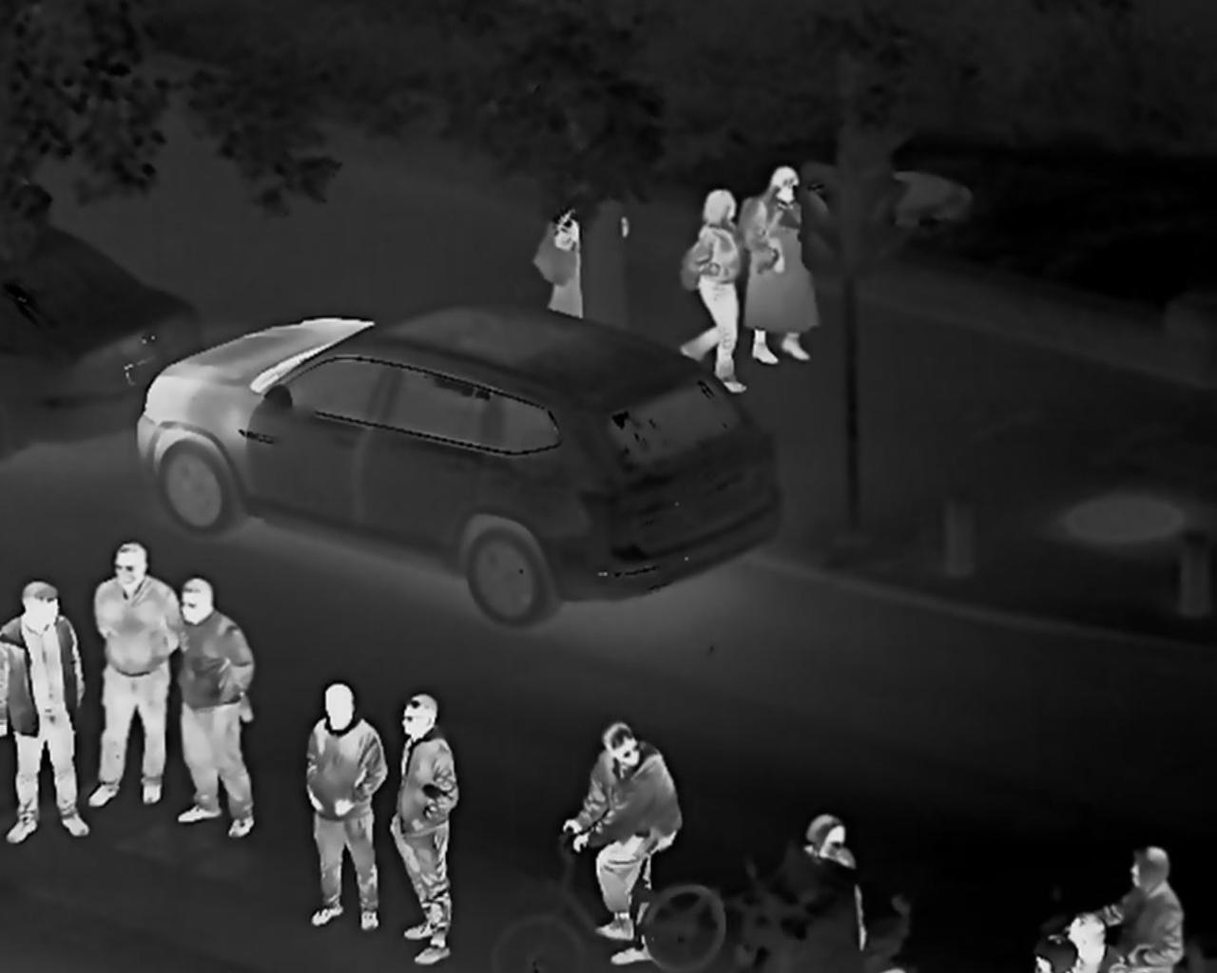person: (570, 719, 678, 969), (390, 681, 477, 958), (87, 536, 165, 816), (175, 577, 257, 830), (294, 676, 377, 924), (6, 573, 78, 816), (670, 188, 752, 369), (783, 805, 876, 943), (763, 172, 821, 351), (1008, 878, 1112, 973), (1131, 850, 1177, 973), (555, 198, 596, 307)
